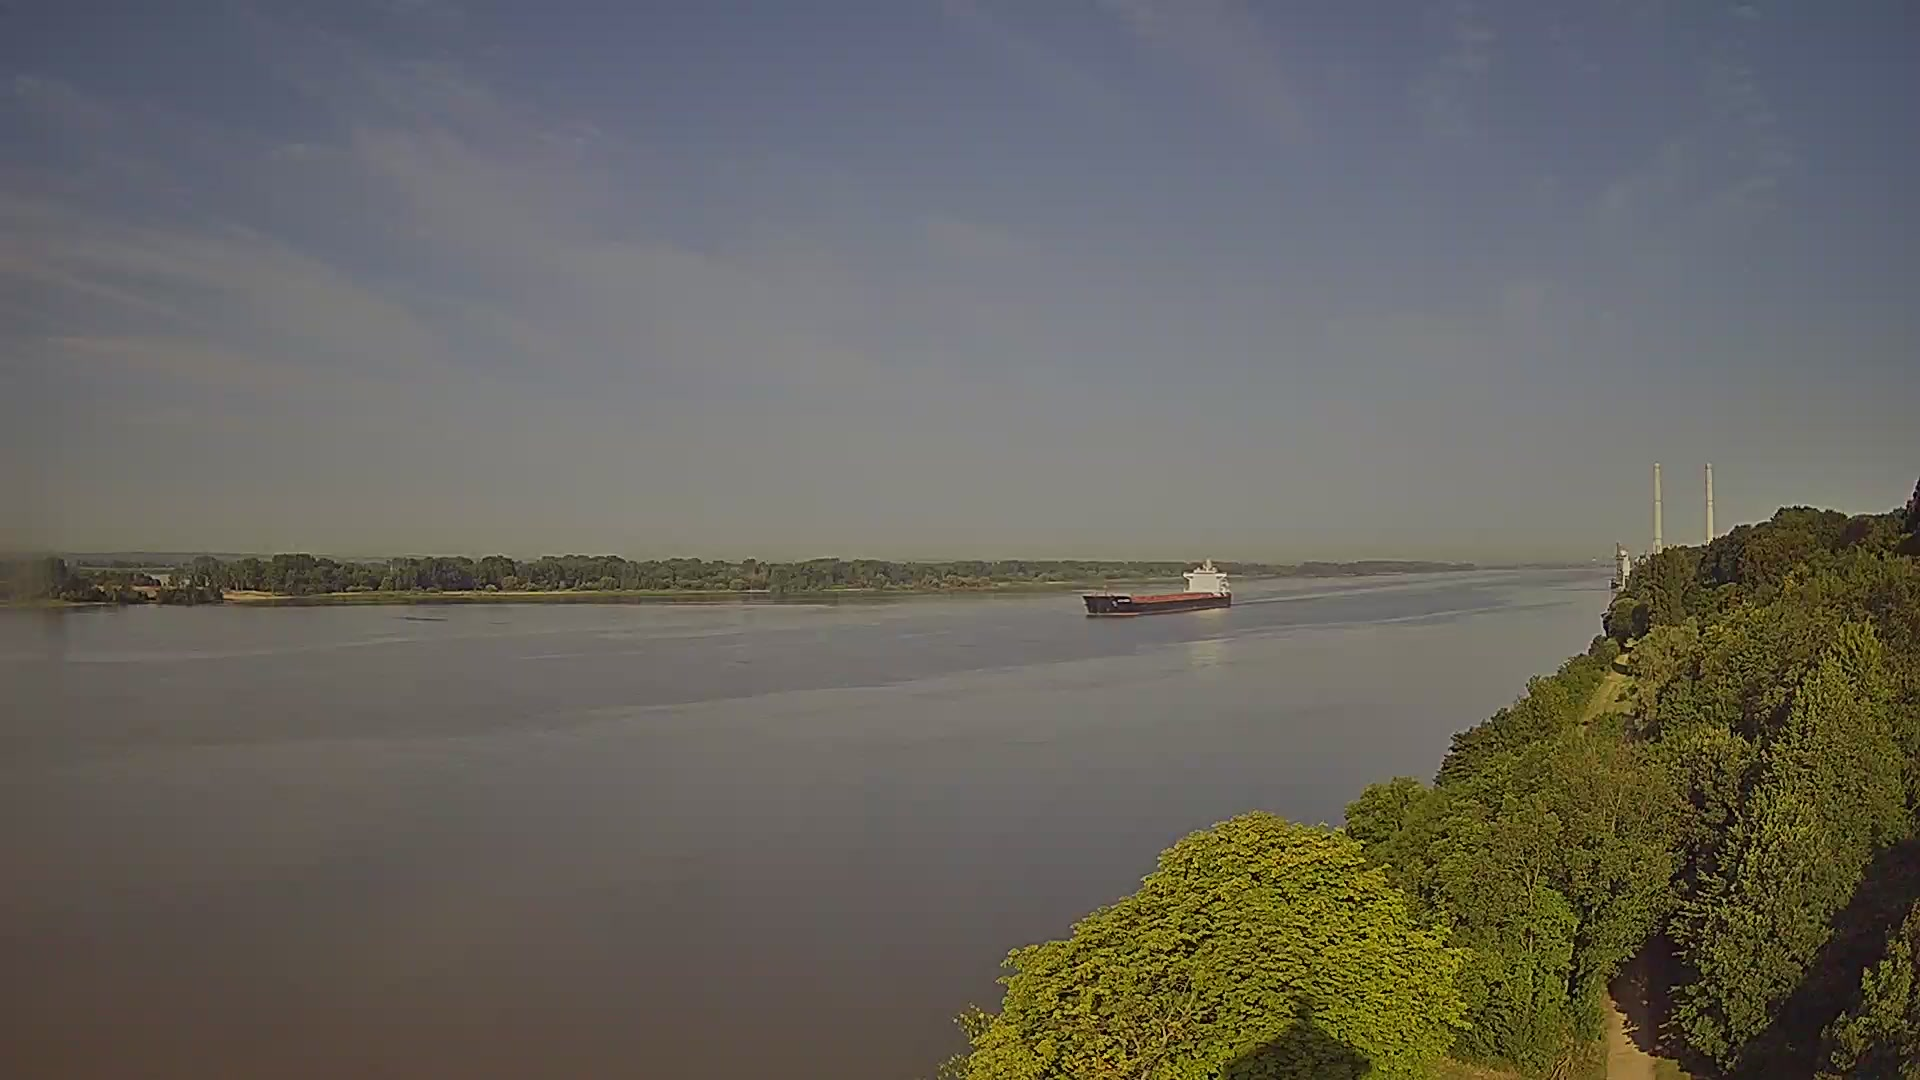sea: (1081, 556, 1233, 618)
